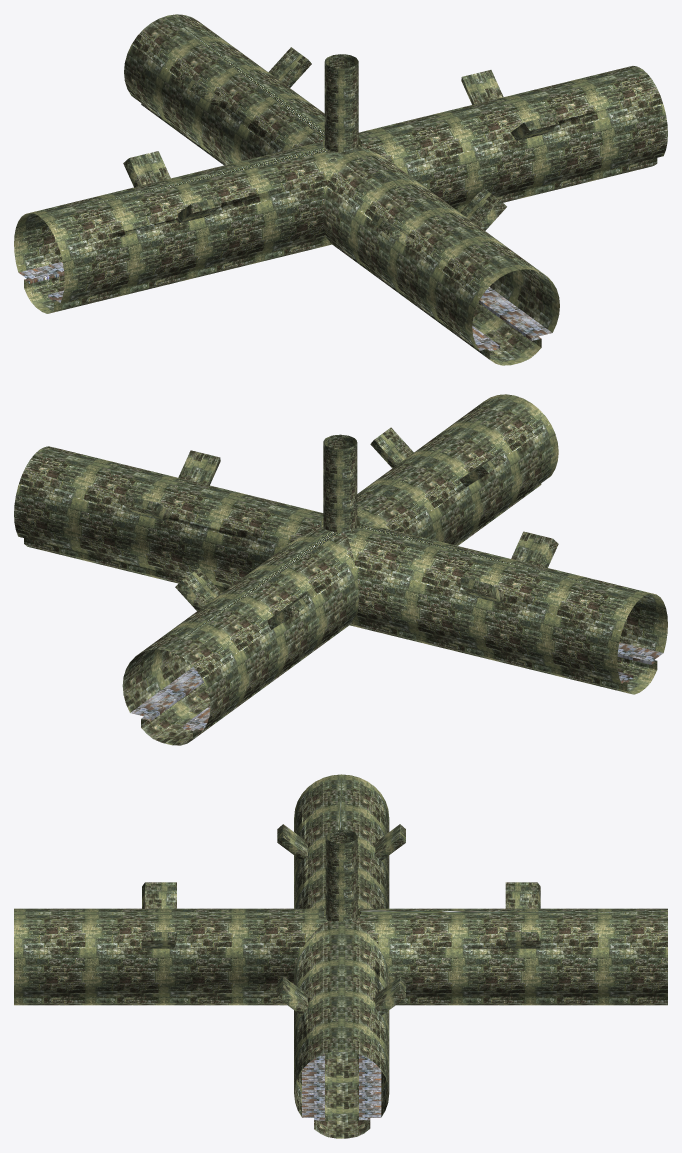
The model's file is Sewer_Cross.FBX.
The picture shows the model from 3 angles, top to bottom: view 1: azimuth 30°, elevation 25°; view 2: azimuth 150°, elevation 25°; view 3: azimuth 270°, elevation 25°; orthographic projection. The views are drawn at different scales.
Visible parts, largest first — view 1: Sewer_Cross; view 2: Sewer_Cross; view 3: Sewer_Cross.
Part boxes in pixels (x1,y1,x2,y2): Sewer_Cross: (14, 14, 667, 365); Sewer_Cross: (14, 394, 667, 745); Sewer_Cross: (14, 774, 667, 1138).
Size of the model in its own units: 4070 by 1127 by 4070.
2 materials, 2 textured.
